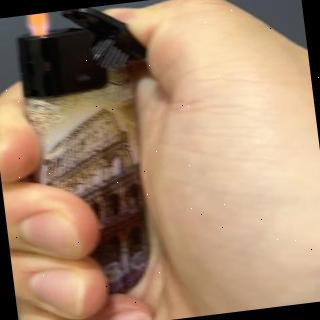fire: (24, 12, 54, 36)
